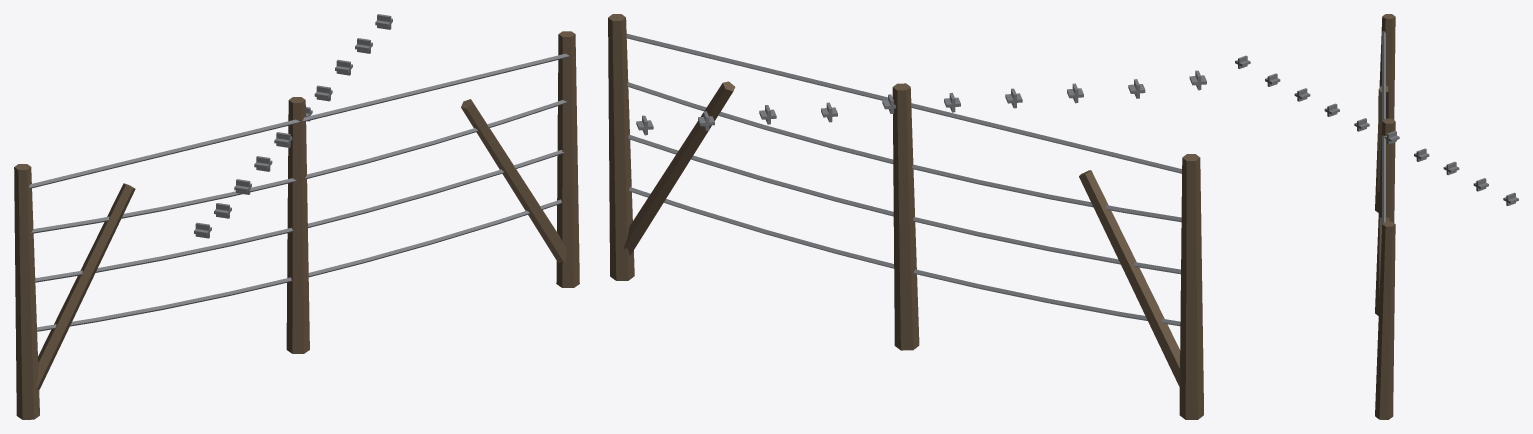
File: fence_wire.glb
The picture shows the model from 3 angles, left to right: view 1: azimuth 30°, elevation 25°; view 2: azimuth 150°, elevation 25°; view 3: azimuth 270°, elevation 25°; orthographic projection. The views are drawn at different scales.
Visible parts, largest first — view 1: fence_wire.001; view 2: fence_wire.001; view 3: fence_wire.001.
Part boxes in pixels (x1,y1,x2,y2): fence_wire.001: [14, 14, 579, 419]; fence_wire.001: [608, 14, 1206, 419]; fence_wire.001: [1235, 14, 1518, 419].
Size of the model in its own units: 4.13 by 1.75 by 2.33.
